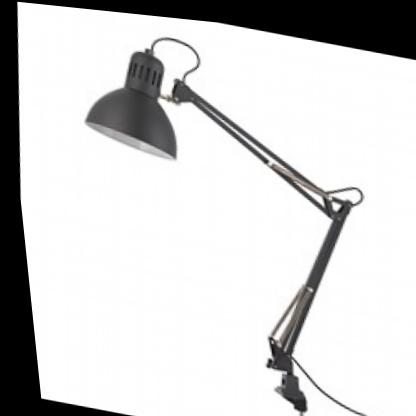Lamp: (31, 3, 401, 416)
